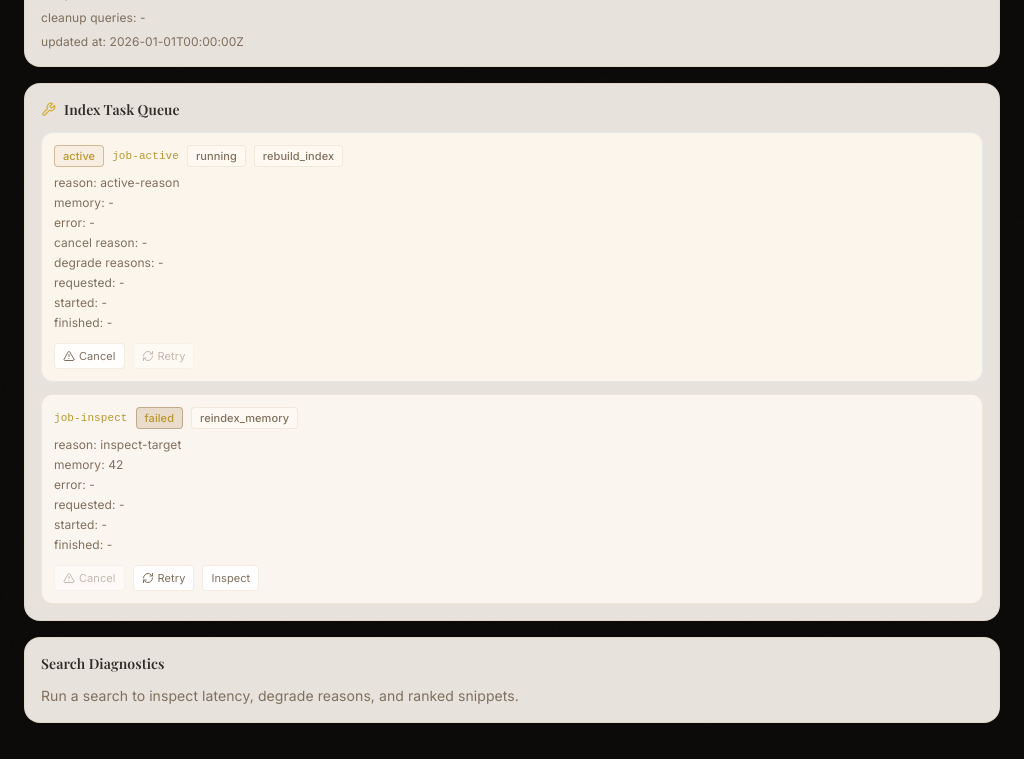
Scenario: ObservabilityPage › switches inspect detail between selected job and active job
This screenshot has width=1024, height=759.
(page scrolled)
Expected: the text "reason: active-reason" is shown, [54, 174, 180, 190]
Expected: the text "job-inspect" is shown, [54, 412, 128, 424]
Click the button "Inspect".
click(231, 578)  # box [202, 564, 259, 590]
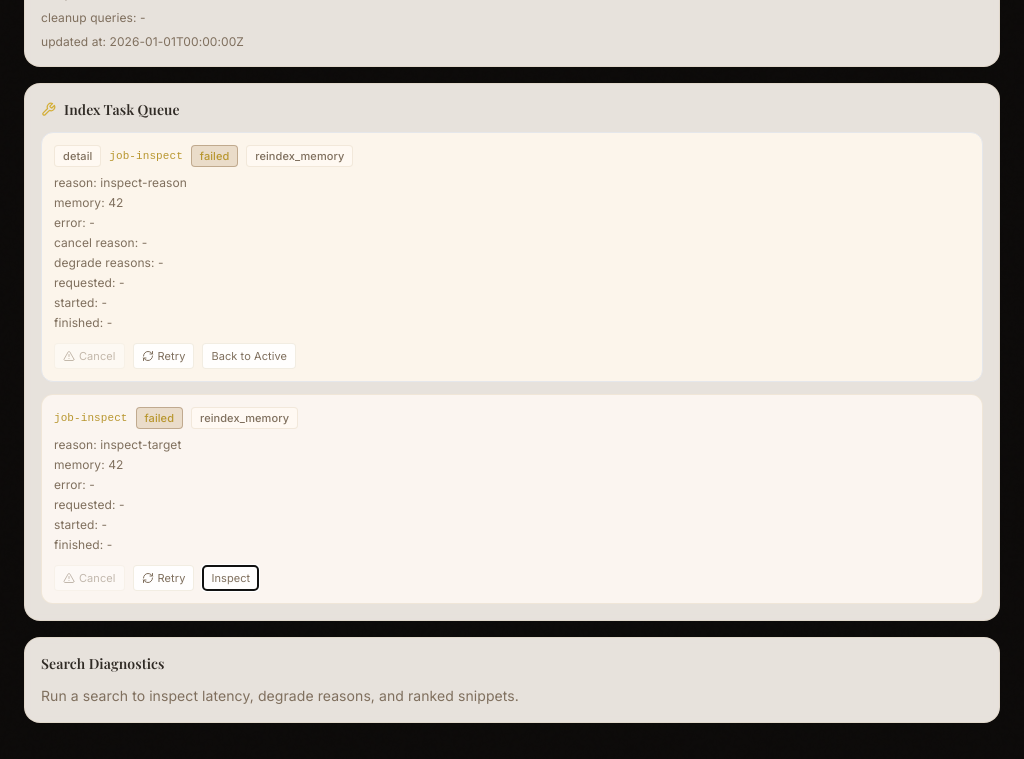
Result: the text "reason: inspect-reason" is shown at [54, 174, 187, 190]
Click the button "Back to Active".
click(249, 356)  # box [202, 342, 296, 368]
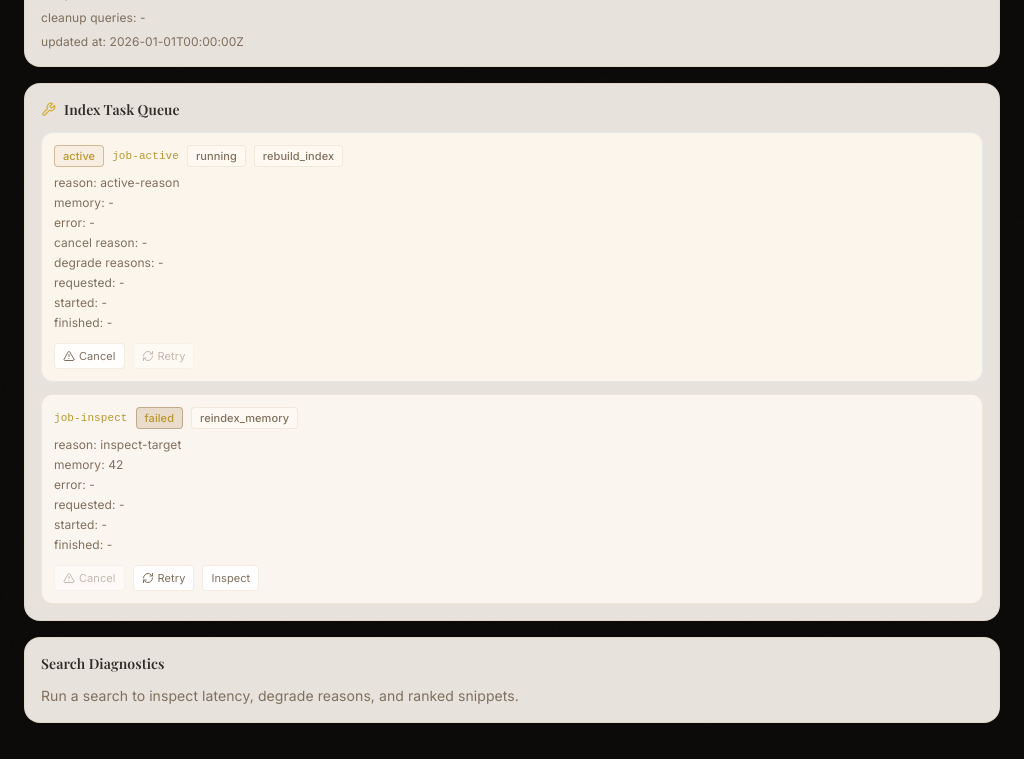
Result: the text "reason: active-reason" is shown at [54, 174, 180, 190]
